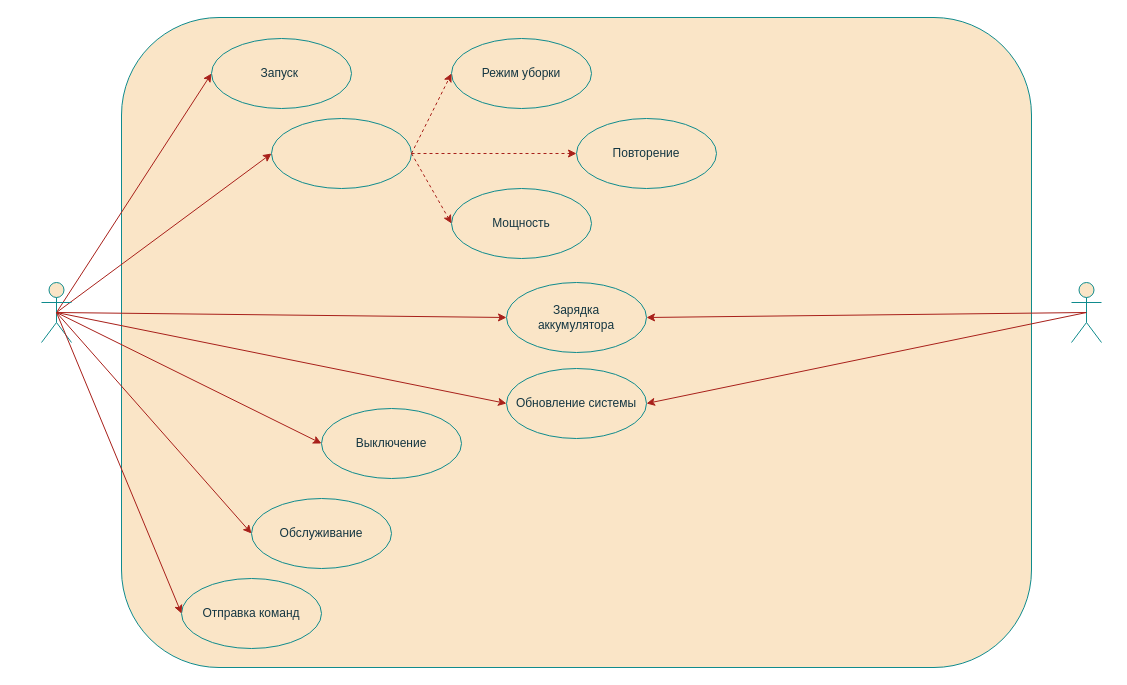
Some shapes in this 1127 by 685 pixel diagram are drawn without their labels. The shapes that lost their labels are listed below. From the top down, each one's centre as x and y in pixels, then its label:
(341,153): Настройка
(56,312): Пользователь
(1086,312): Робот пылесос
